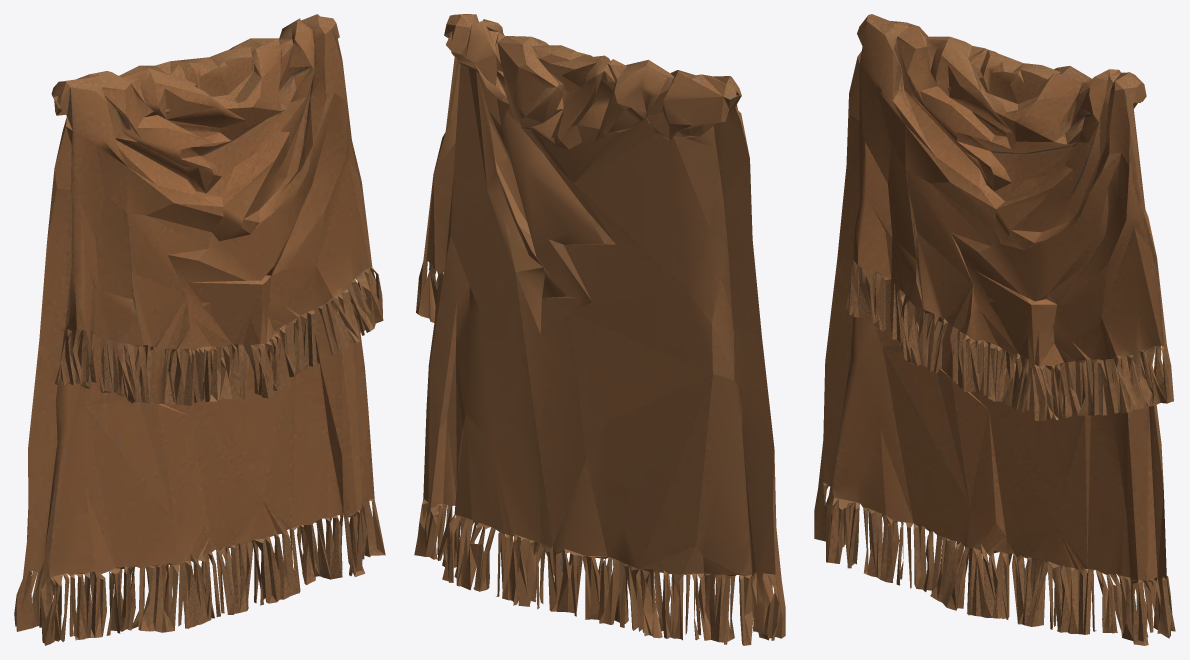
File: linen.glb
3 renders of one model, left to right at view 1: azimuth 30°, elevation 25°; view 2: azimuth 150°, elevation 25°; view 3: azimuth 330°, elevation 25°, orthographic. The views are drawn at different scales.
Parts seen in each view (by area): view 1: mesh_node; view 2: mesh_node; view 3: mesh_node.
Part boxes in pixels (x1,y1,x2,y2): mesh_node: (14, 14, 385, 645); mesh_node: (414, 14, 785, 645); mesh_node: (814, 14, 1175, 645).
Bounding box in the file's own units: 1.26 × 1.9 × 0.2363.
1 material, 1 textured.
